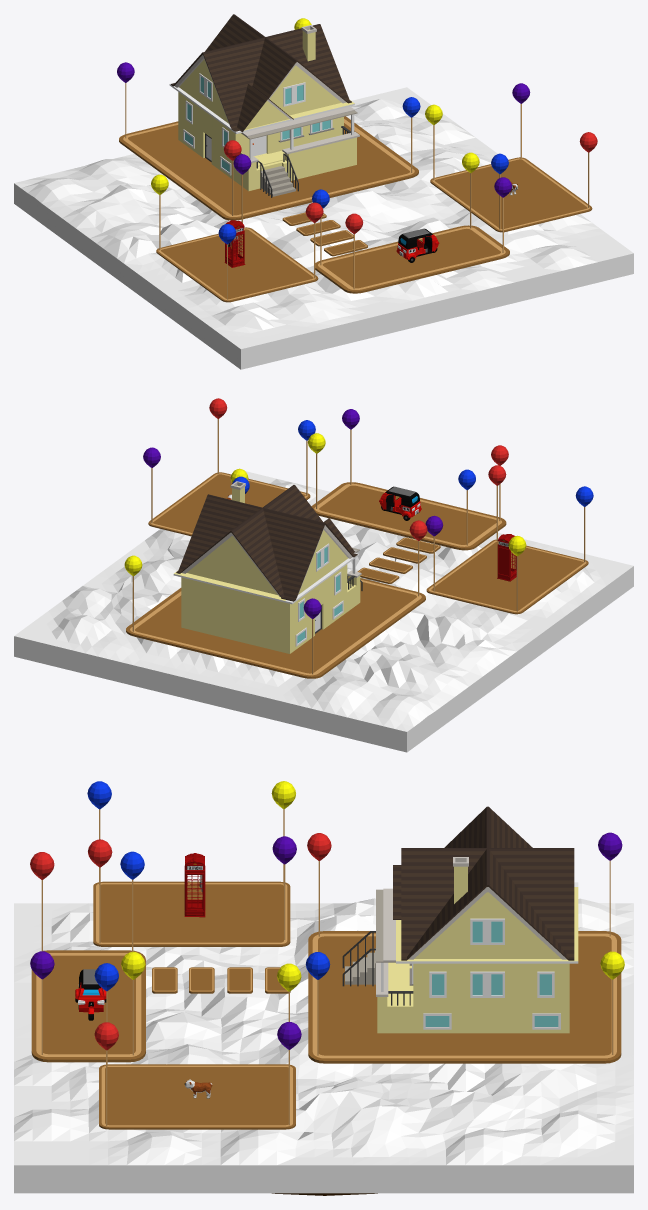
The picture shows the model from 3 angles, top to bottom: view 1: azimuth 30°, elevation 25°; view 2: azimuth 150°, elevation 25°; view 3: azimuth 270°, elevation 25°; orthographic projection. The views are drawn at different scales.
Visible parts, largest first — view 1: Cube.013, Cube.1555, VEHICLES_TUC_TUC, OBJRANDOM_PHONEBOOTH; view 2: Cube.013, Cube.1555, VEHICLES_TUC_TUC, OBJRANDOM_PHONEBOOTH; view 3: Cube.013, Cube.1555, OBJRANDOM_PHONEBOOTH, VEHICLES_TUC_TUC.
Boxes of the visible parts, box(x1,y1,x2,y2) form: Cube.013: box(14, 18, 633, 369); Cube.1555: box(169, 14, 359, 197); VEHICLES_TUC_TUC: box(396, 228, 439, 262); OBJRANDOM_PHONEBOOTH: box(224, 220, 245, 267); Cube.013: box(14, 398, 633, 752); Cube.1555: box(173, 481, 362, 653); VEHICLES_TUC_TUC: box(379, 486, 421, 520); OBJRANDOM_PHONEBOOTH: box(497, 534, 516, 581); Cube.013: box(14, 781, 633, 1193); Cube.1555: box(342, 806, 578, 1033); OBJRANDOM_PHONEBOOTH: box(184, 853, 205, 917); VEHICLES_TUC_TUC: box(75, 969, 106, 1020).
Bounding box in the file's own units: 4000 × 1753 × 4000.
49 materials, 1 textured.
